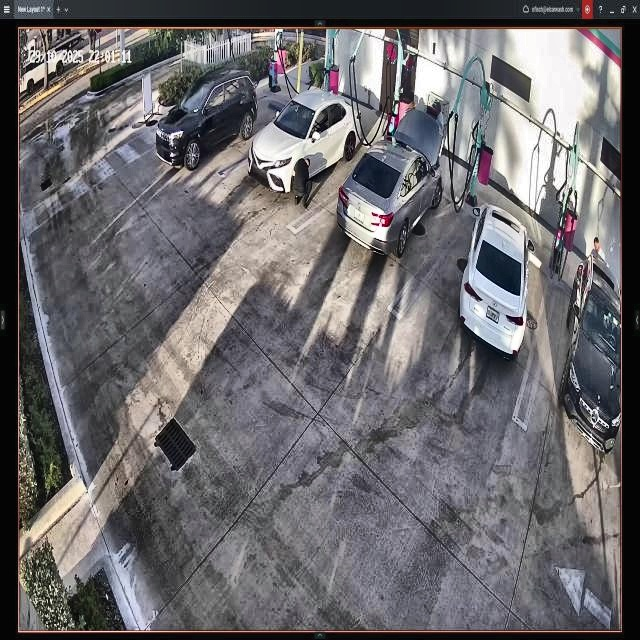Car: (342, 113, 443, 262), (251, 89, 362, 194), (459, 203, 529, 354), (156, 73, 259, 168)
